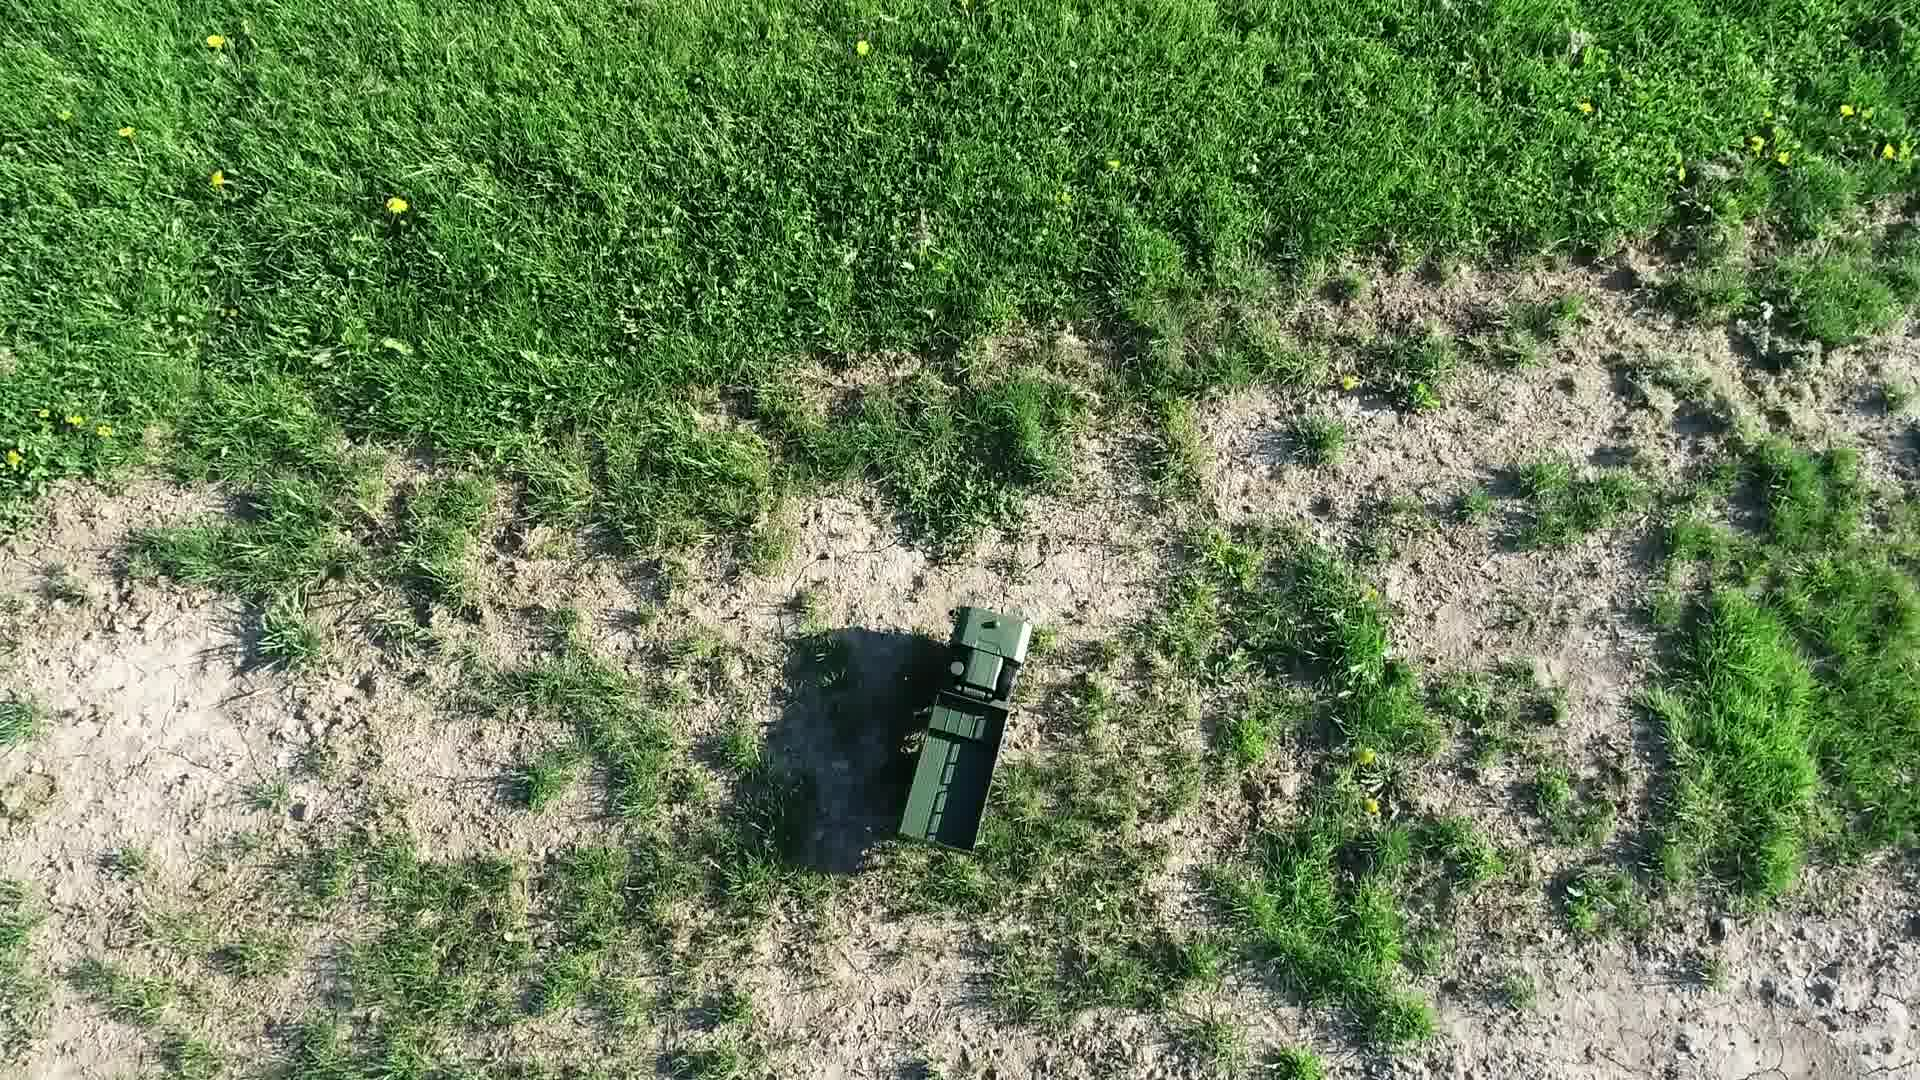transporter9: (866, 593, 1046, 877)
